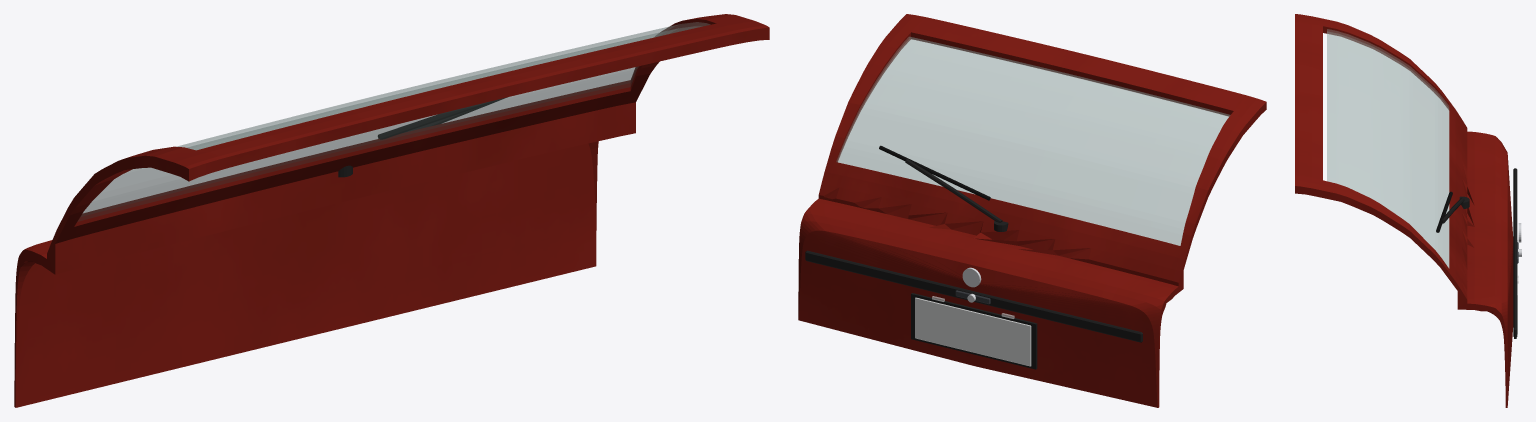
File: tampa_traseira_hatch.glb
The picture shows the model from 3 angles, left to right: view 1: azimuth 30°, elevation 25°; view 2: azimuth 150°, elevation 25°; view 3: azimuth 270°, elevation 25°; orthographic projection. The views are drawn at different scales.
Parts seen in each view (by area): view 1: tampa_traseira_hatch_pintura, tampa_traseira_hatch_1_vidro, tampa_traseira_hatch_borracha; view 2: tampa_traseira_hatch_pintura, tampa_traseira_hatch_1_vidro, tampa_traseira_hatch_plastico_preto, tampa_traseira_hatch_placa, tampa_traseira_hatch_borracha; view 3: tampa_traseira_hatch_pintura, tampa_traseira_hatch_1_vidro, tampa_traseira_hatch_plastico_preto.
Boxes of the visible parts, x1,y1,x2,y2 form: tampa_traseira_hatch_pintura: [14, 14, 769, 407]; tampa_traseira_hatch_1_vidro: [78, 22, 709, 221]; tampa_traseira_hatch_borracha: [378, 98, 504, 139]; tampa_traseira_hatch_pintura: [798, 14, 1266, 407]; tampa_traseira_hatch_1_vidro: [836, 36, 1230, 245]; tampa_traseira_hatch_plastico_preto: [805, 159, 1142, 369]; tampa_traseira_hatch_placa: [915, 297, 1031, 366]; tampa_traseira_hatch_borracha: [879, 145, 990, 200]; tampa_traseira_hatch_pintura: [1295, 14, 1513, 407]; tampa_traseira_hatch_1_vidro: [1327, 29, 1449, 267]; tampa_traseira_hatch_plastico_preto: [1441, 168, 1517, 338].
Size of the model in its own units: 1.24 by 0.7565 by 0.691.
Materials: 8 (1 with a texture image).
